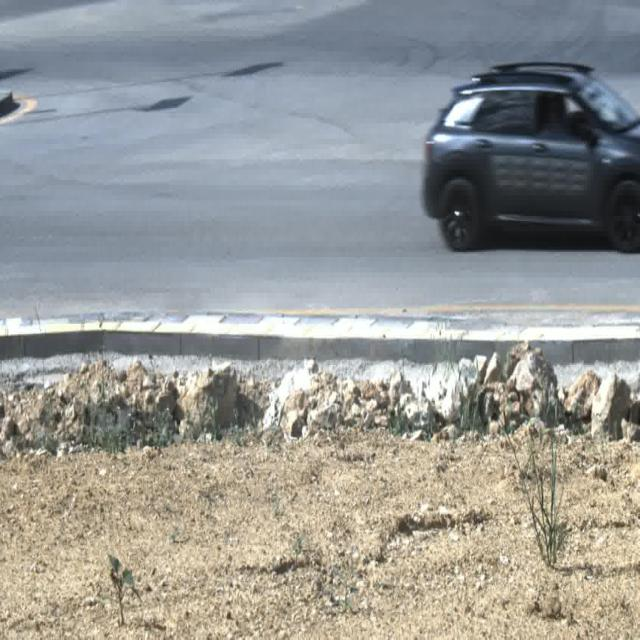Car: (419, 59, 640, 251)
